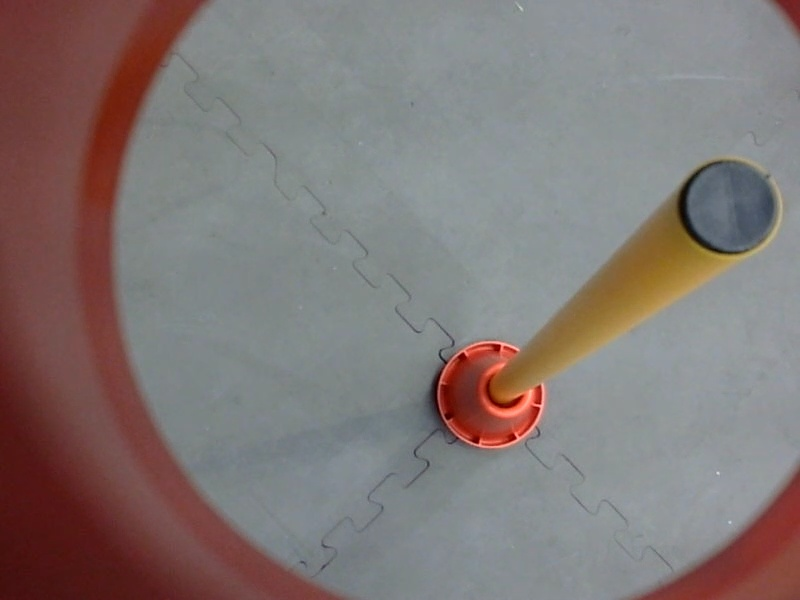tip: (667, 148, 789, 268)
